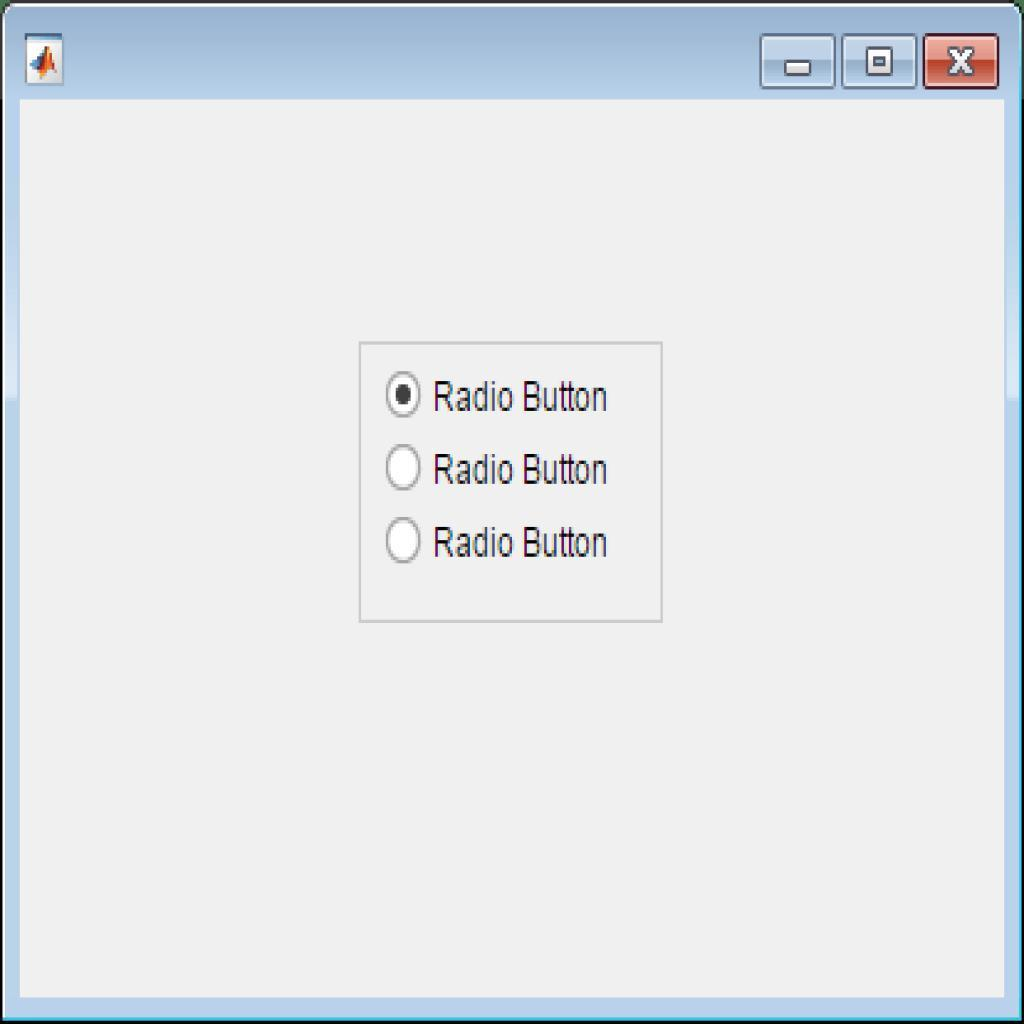label: (426, 521, 615, 563), (434, 446, 612, 490), (435, 380, 611, 420)
radio: (384, 440, 424, 490), (385, 516, 423, 567), (389, 371, 423, 416)
